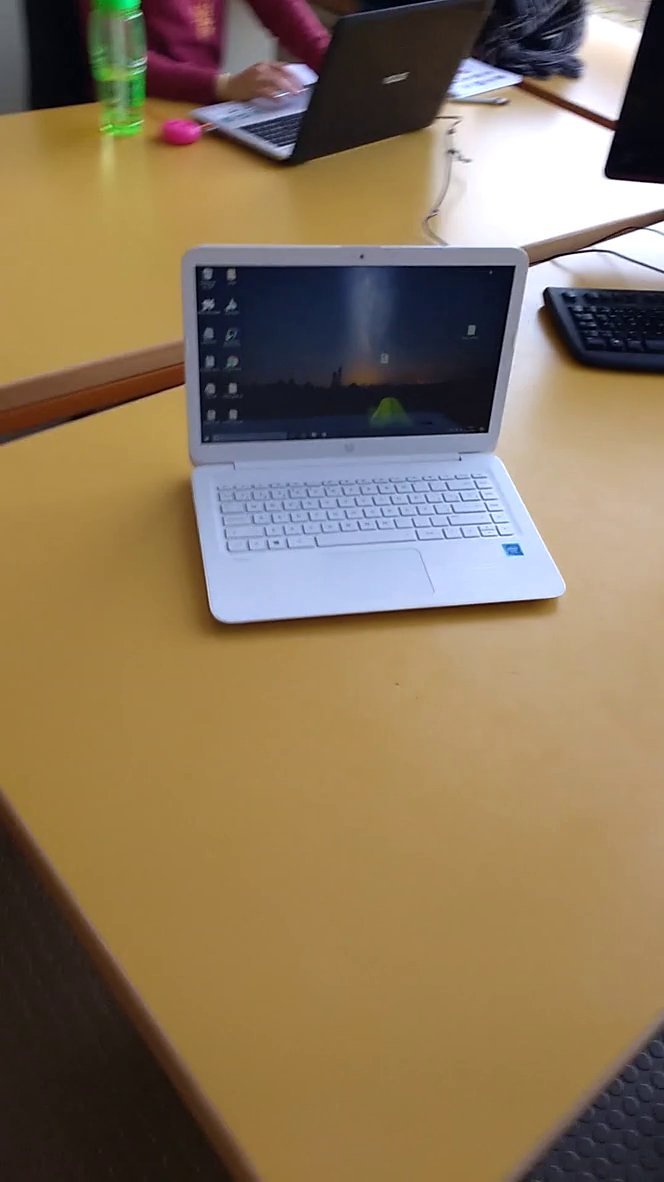laptop: (165, 234, 576, 648)
